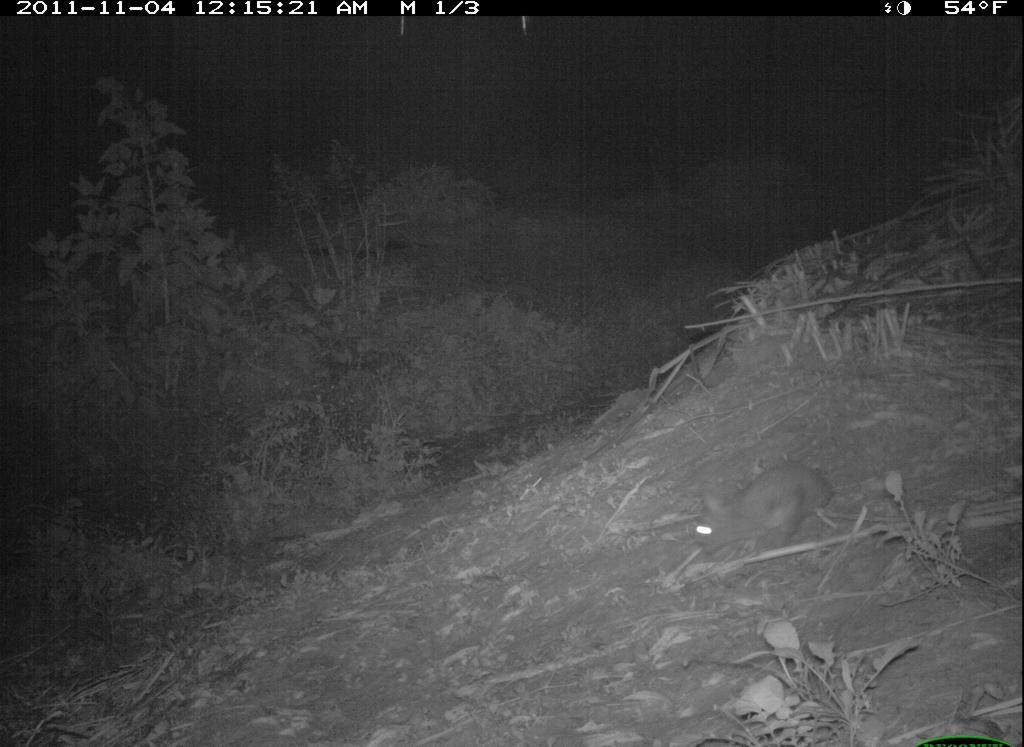rabbit: (679, 451, 849, 565)
